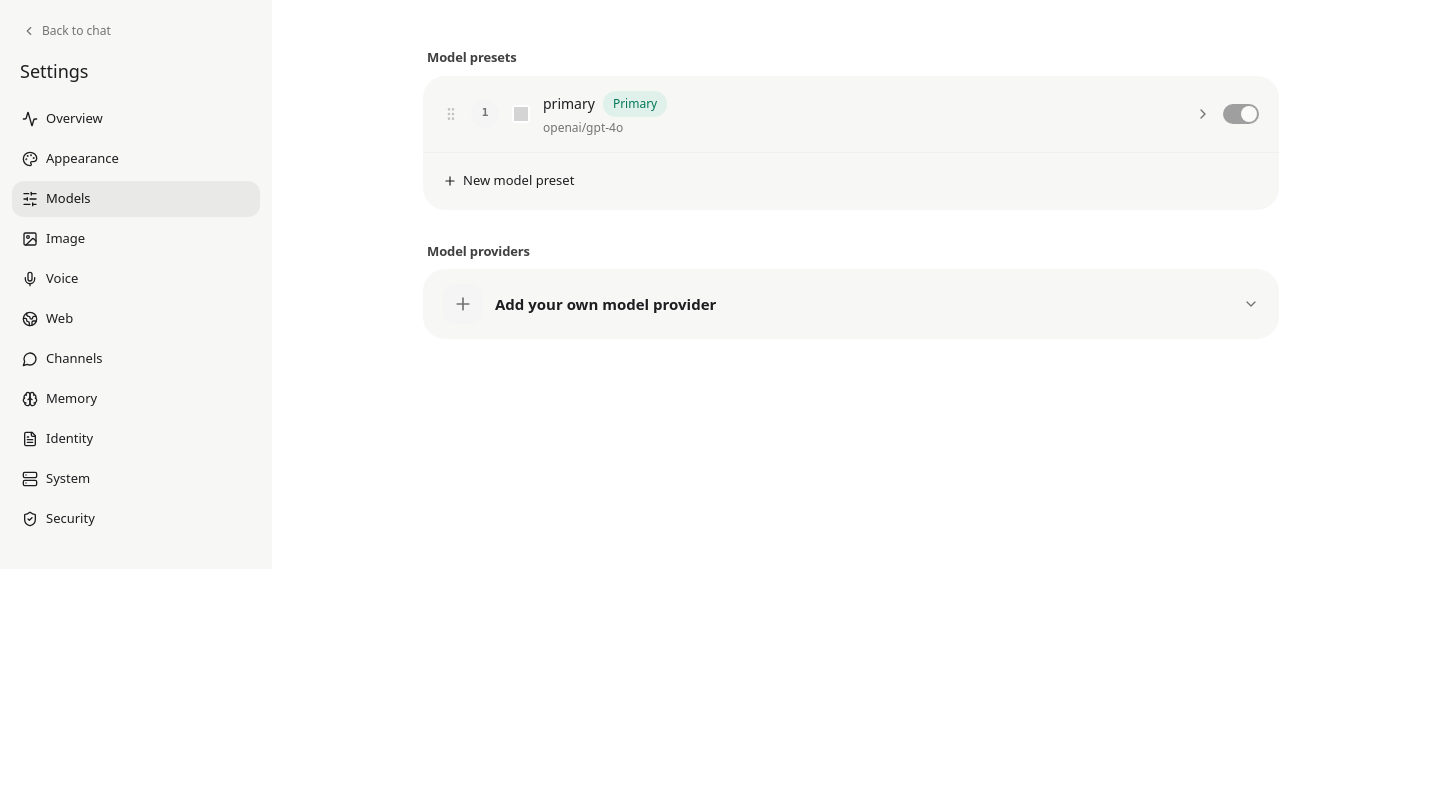
Test: Settings models › renames an existing preset without losing the editor selection
Click the button "1 primary Primary openai/gpt-4o".
click(569, 104)  # box [471,90,1211,136]
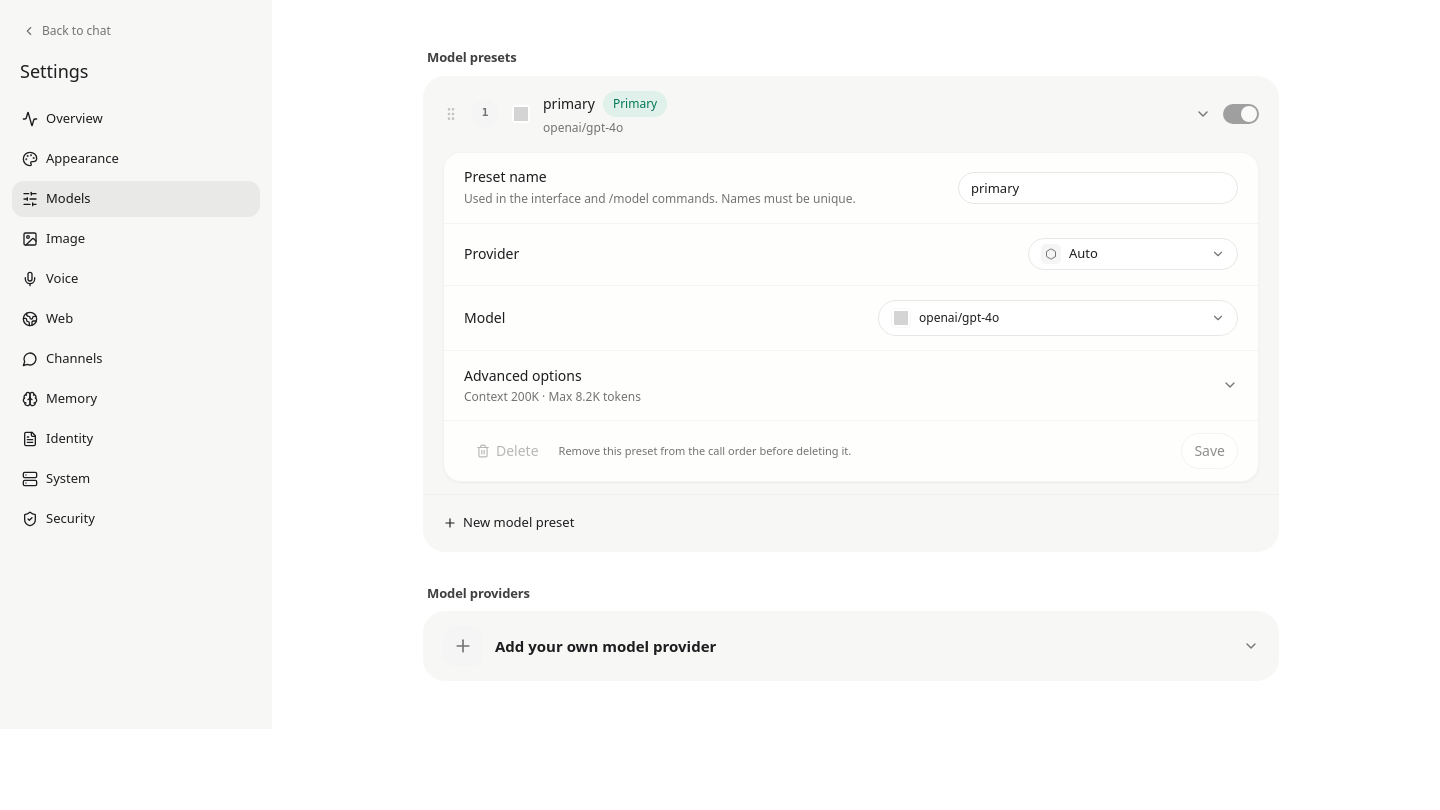
Replace the text in the field named "Preset name" with "Codex" at (1098,188), box [958,172,1238,204]
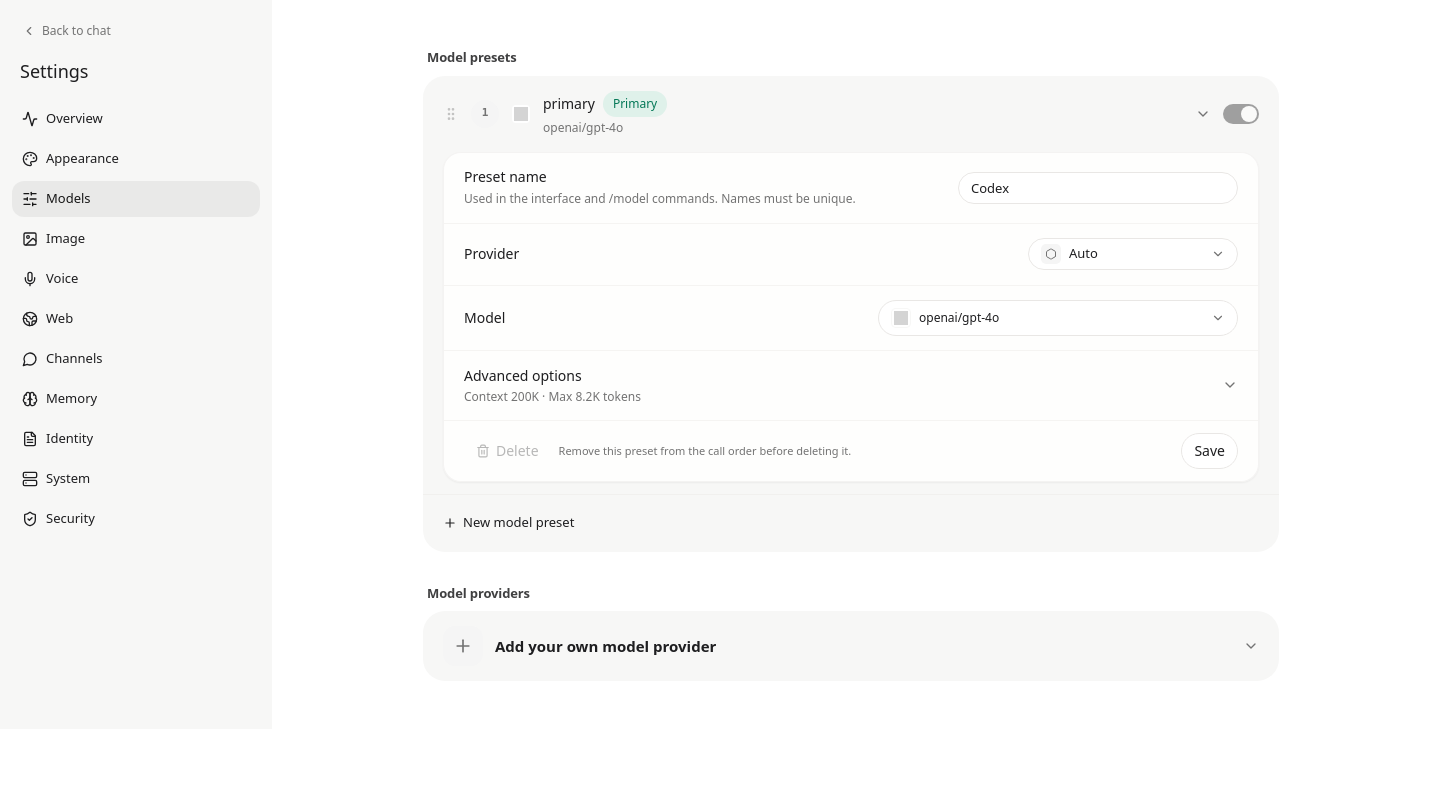
Click the button "Save".
click(1210, 450)  # box [1181,432,1238,468]
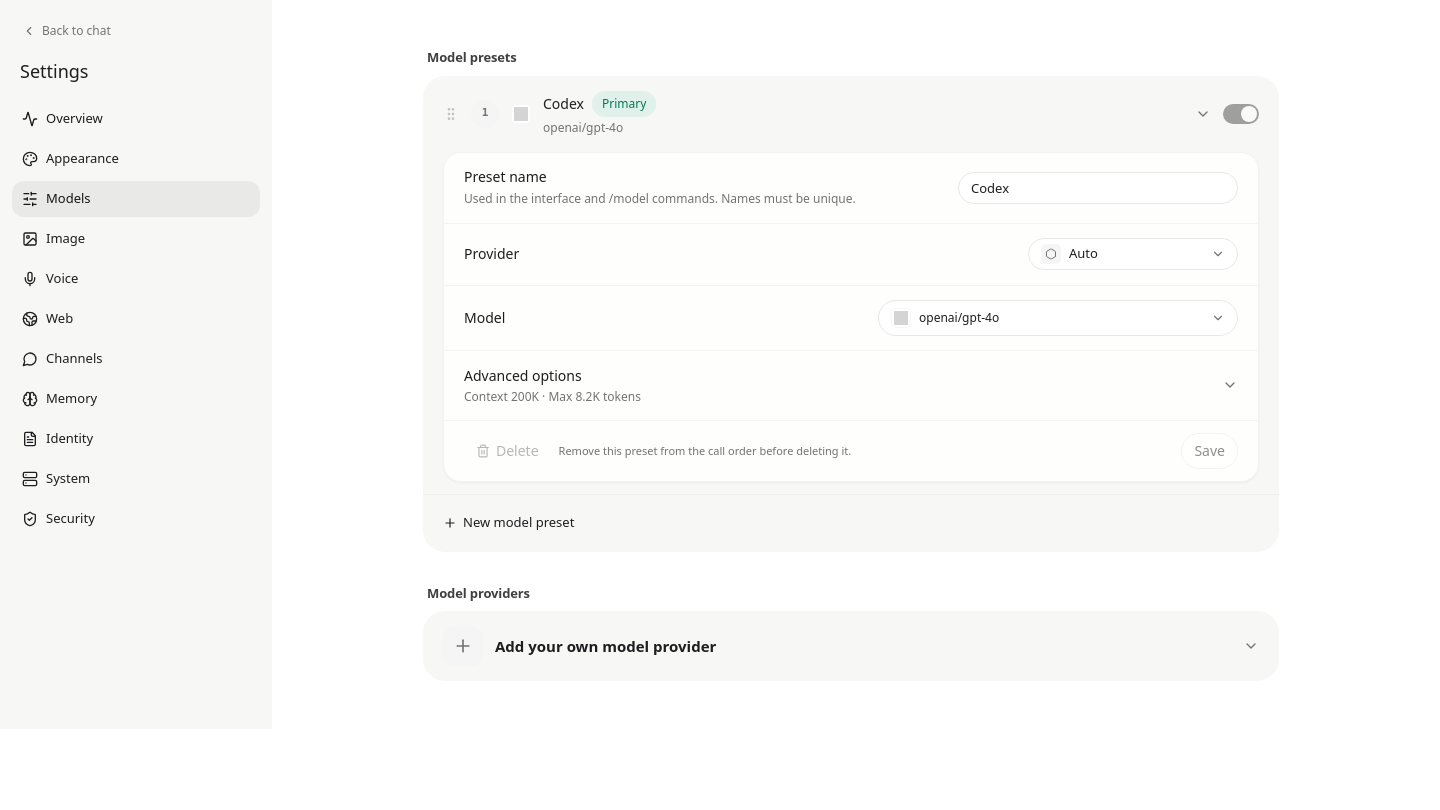
Now the field named "Preset name" holds "Codex", box [958,172,1238,204]
Now the element with test id "model-call-order-row-Codex" is shown, box [423,76,1279,152]
